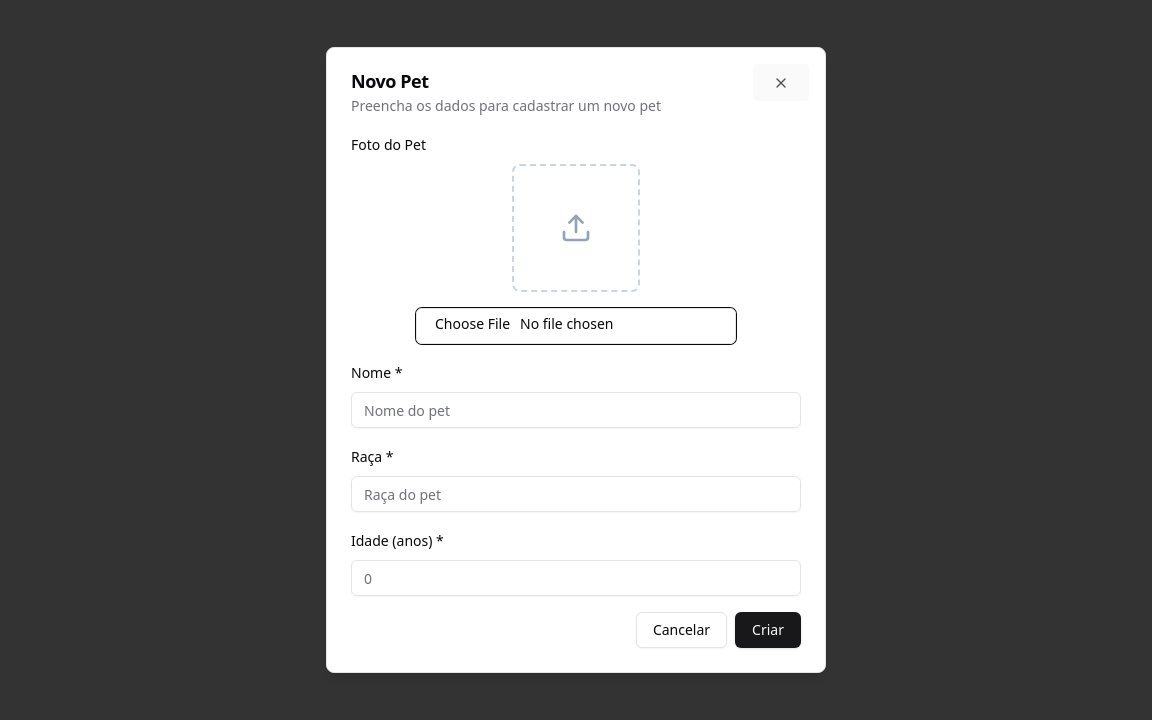
PetFormDialog › Sanitização e segurança › aceita apenas números no campo idade
// Tenta digitar letras
Type "abc12def" into the field labelled "Idade (anos) *" at (576, 578), box [351,560,801,596]
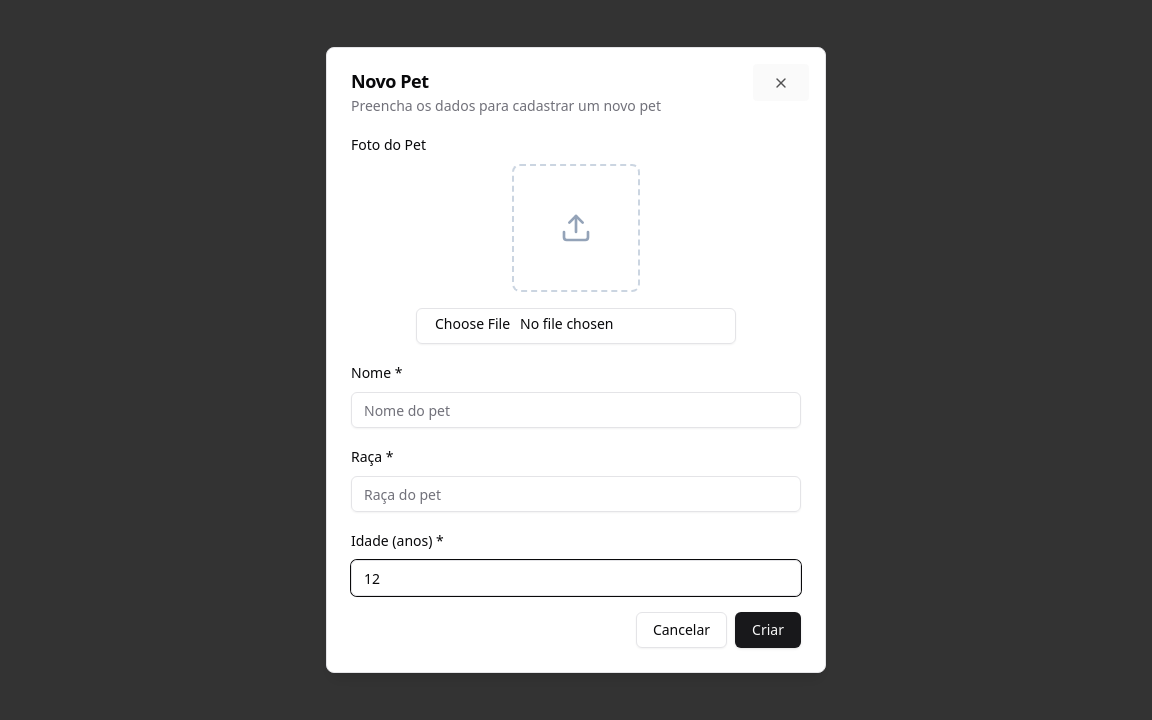
Expected: the field labelled "Idade (anos) *" holds "12", [351,560,801,596]
